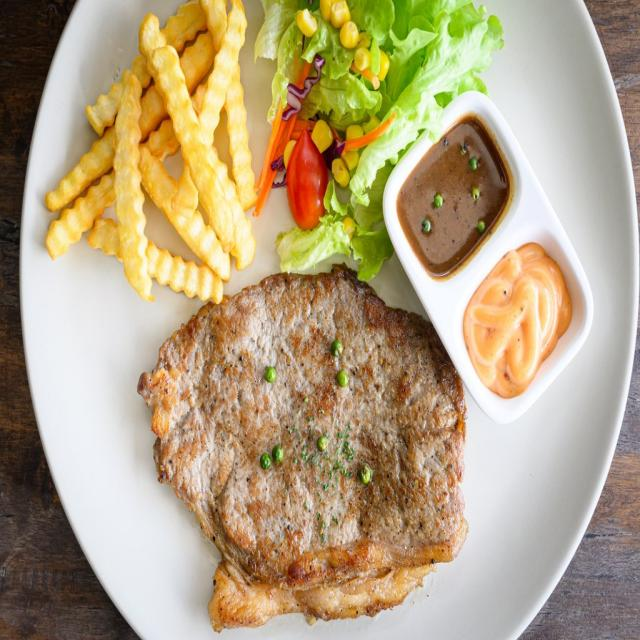Carbohydrate: (42, 0, 258, 302)
Protein: (138, 264, 468, 633)
Steak: (17, 0, 640, 640)
Vegetable: (253, 0, 503, 276)
